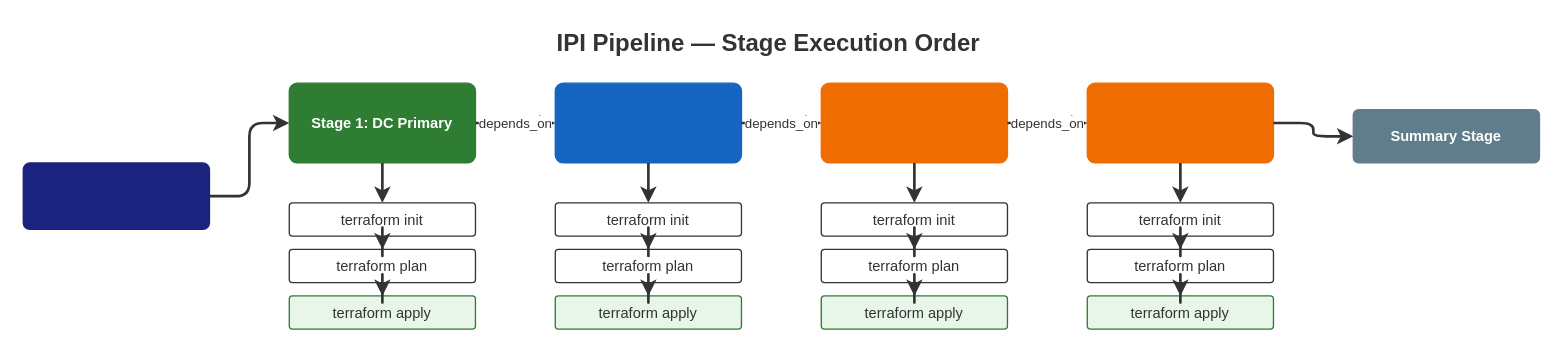
Image size: 1563x352. Some labels were removed from this diagram. The centre of each missing label's shape, as x and y in pixels:
"ADO Pipeline Trigger" belongs at (115,195).
"Stage 2: DR Secondary" belongs at (647,122).
"Stage 3: Mgmt DC" belongs at (913,122).
"Stage 4: Mgmt DR" belongs at (1179,122).
